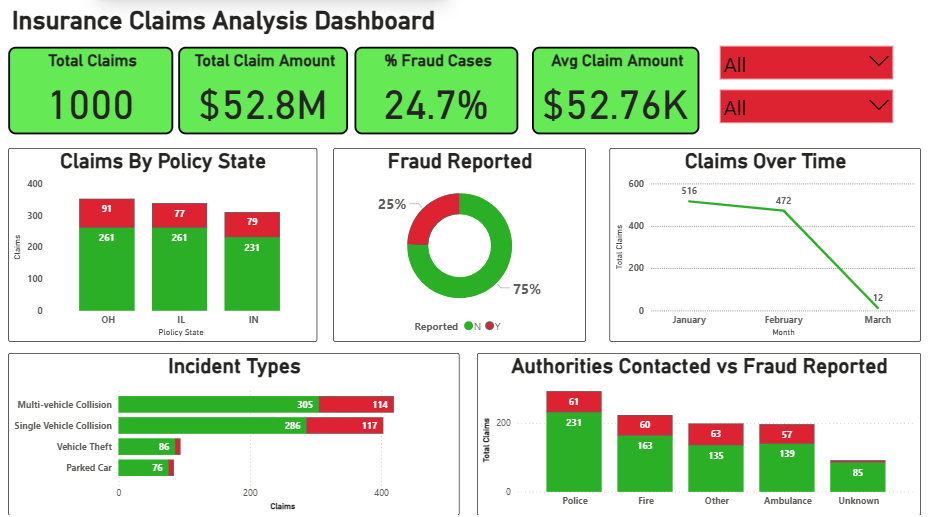

The page's visual inventory and layout, read from the dashboard file:
{"tool":"powerbi","page":{"name":"Insurance Claims Analysis Dash bard","canvas":[1280,720],"ordinal":0},"visuals":[{"type":"card","title":"Total Claims","fields":{"Values":["cleaned_insurance_claims.Total Claims"]},"box":[15,78.3,220,116.7],"z":0},{"type":"card","title":"Total Claim Amount","fields":{"Values":["cleaned_insurance_claims.Total Claim Amount"]},"box":[241.7,78.3,226.7,116.7],"z":1000},{"type":"card","title":"% Fraud Cases","fields":{"Values":["cleaned_insurance_claims.Fraud %"]},"box":[476.7,78.3,218.3,116.7],"z":2000},{"type":"card","title":"Avg Claim Amount","fields":{"Values":["cleaned_insurance_claims.Avg Claim Amount"]},"box":[713.3,78.3,223.3,116.7],"z":3000},{"type":"donutChart","title":"Fraud Reported ","fields":{"Category":["cleaned_insurance_claims.fraud_reported"],"Y":["CountNonNull(cleaned_insurance_claims.fraud_reported)"]},"box":[448.3,213.3,336.7,258.3],"z":4000},{"type":"columnChart","title":"Claims By Policy State","fields":{"Y":["cleaned_insurance_claims.Total Claims"],"Category":["cleaned_insurance_claims.policy_state"],"Series":["cleaned_insurance_claims.fraud_reported"]},"box":[15,213.3,411.7,258.3],"z":5000},{"type":"lineChart","title":" Claims Over Time","fields":{"Y":["cleaned_insurance_claims.Total Claims"],"Category":["cleaned_insurance_claims.incident_date.Variation.Date Hierarchy.Month"]},"box":[816.7,213.3,415,258.3],"z":6000},{"type":"barChart","title":"Incident Types","fields":{"Category":["cleaned_insurance_claims.incident_type"],"Y":["cleaned_insurance_claims.Total Claims"],"Series":["cleaned_insurance_claims.fraud_reported"]},"box":[15,486.7,601.7,216.7],"z":7000},{"type":"columnChart","title":"Authorities Contacted vs Fraud Reported","fields":{"Category":["cleaned_insurance_claims.authorities_contacted"],"Series":["cleaned_insurance_claims.fraud_reported"],"Y":["cleaned_insurance_claims.Total Claims"]},"box":[640,486.7,591.7,216.7],"z":8000},{"type":"slicer","title":"Auto Make ","fields":{"Values":["cleaned_insurance_claims.auto_model"]},"box":[953.3,125,251.7,66.7],"z":9000},{"type":"slicer","fields":{"Values":["cleaned_insurance_claims.auto_make"]},"box":[953.3,66.7,251.7,58.3],"z":10000},{"type":"textbox","box":[15,18.3,625,48.3],"z":10001}]}

Visuals, with their boxes in screenshot pixels (x1, y1, x2, y2), scaled from the page's 1280x720 canvas onto the 932x517 screenshot:
"Total Claims" card: 11 56 171 140
"Total Claim Amount" card: 176 56 341 140
"% Fraud Cases" card: 347 56 506 140
"Avg Claim Amount" card: 519 56 682 140
"Fraud Reported " donutChart: 326 153 572 339
"Claims By Policy State" columnChart: 11 153 311 339
" Claims Over Time" lineChart: 595 153 897 339
"Incident Types" barChart: 11 349 449 505
"Authorities Contacted vs Fraud Reported" columnChart: 466 349 897 505
"Auto Make " slicer: 694 90 877 138
slicer - cleaned_insurance_claims.auto_make: 694 48 877 90
textbox: 11 13 466 48
